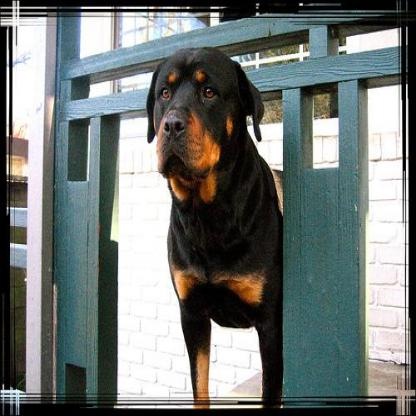Rottweiler: (144, 44, 281, 406)
